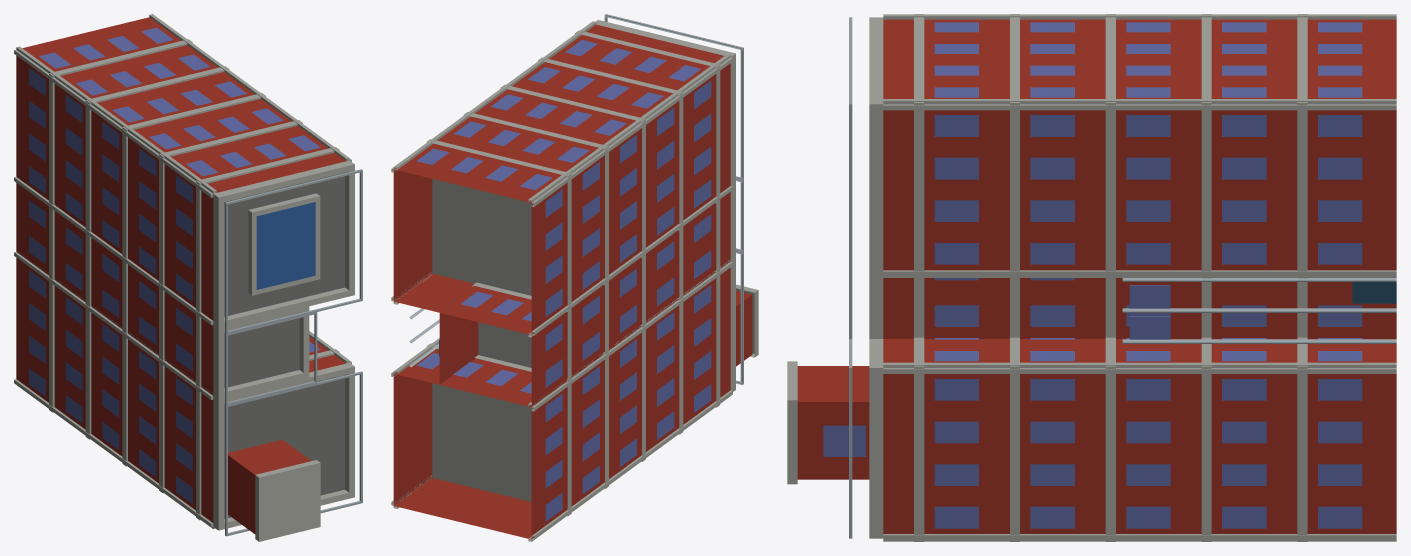
The model's file is construction_2.glb.
The picture shows the model from 3 angles, left to right: view 1: azimuth 30°, elevation 25°; view 2: azimuth 150°, elevation 25°; view 3: azimuth 270°, elevation 25°; orthographic projection. The views are drawn at different scales.
Visible parts, largest first — view 1: construction_2; view 2: construction_2; view 3: construction_2.
Boxes of the visible parts, <box> form: construction_2: <box>14,14,362,541</box>; construction_2: <box>391,14,758,541</box>; construction_2: <box>787,14,1396,541</box>.
Bounding box in the file's own units: 12.4 × 28.4 × 35.6.
